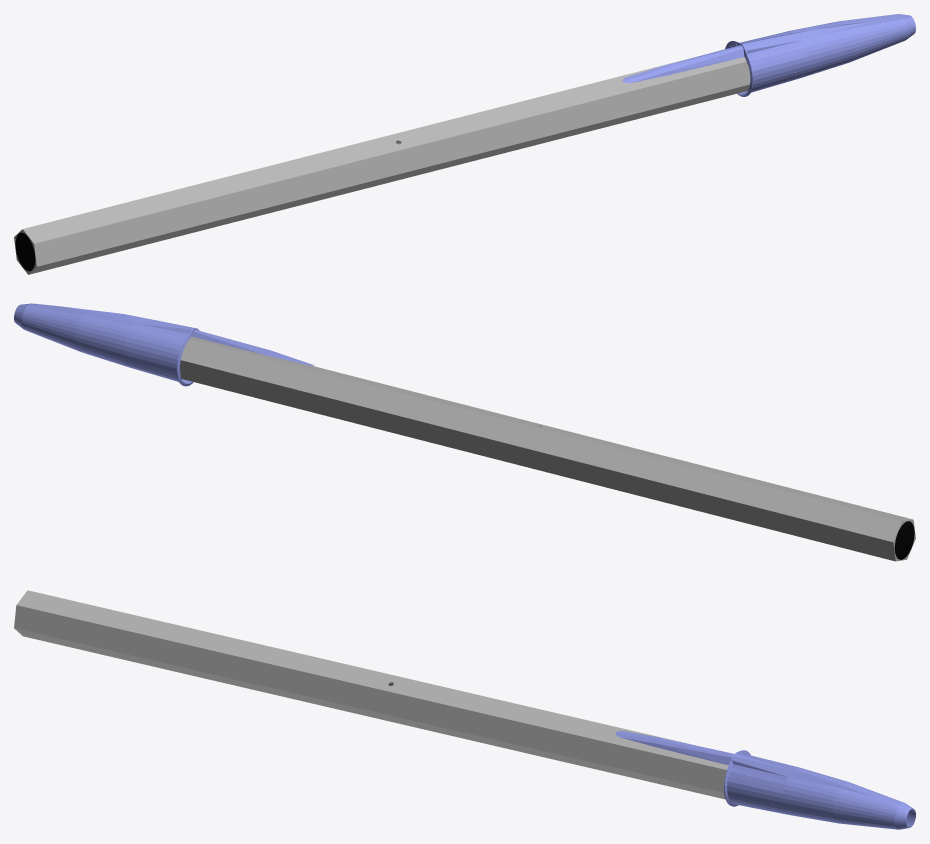
The model's file is pen.glb.
3 views of the same model, one above another, from view 1: azimuth 30°, elevation 25°; view 2: azimuth 150°, elevation 25°; view 3: azimuth 330°, elevation 25° (orthographic).
Parts seen in each view (by area): view 1: Object_2, Object_4, Object_6; view 2: Object_2, Object_4, Object_6; view 3: Object_2, Object_4.
Boxes of the visible parts, x1=… form: Object_2: x1=14, y1=55, x2=796, y2=274; Object_4: x1=622, y1=14, x2=915, y2=96; Object_6: x1=15, y1=232, x2=35, y2=271; Object_2: x1=180, y1=336, x2=915, y2=561; Object_4: x1=14, y1=303, x2=314, y2=386; Object_6: x1=894, y1=521, x2=914, y2=559; Object_2: x1=14, y1=590, x2=773, y2=804; Object_4: x1=615, y1=731, x2=915, y2=829.
Size of the model in its own units: 42.97 by 2.63 by 2.41.
5 materials, 1 textured.
